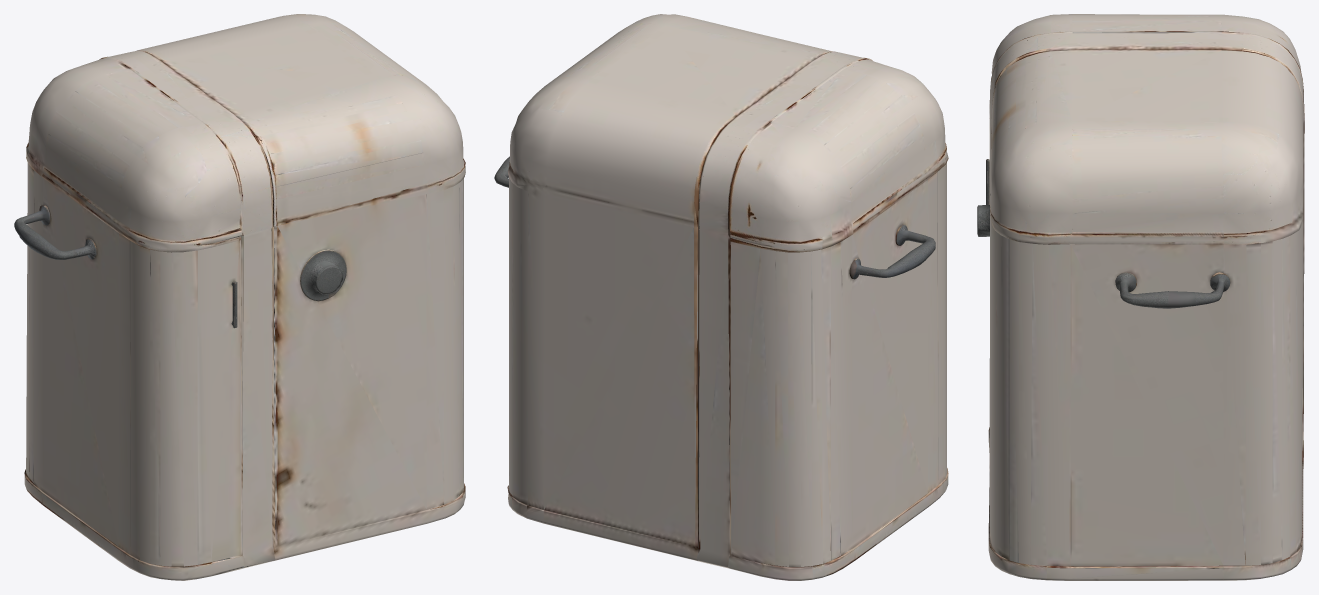
File: fridge.glb
3 renders of one model, left to right at view 1: azimuth 30°, elevation 25°; view 2: azimuth 150°, elevation 25°; view 3: azimuth 270°, elevation 25°, orthographic. The views are drawn at different scales.
Size of the model in its own units: 0.9502 by 0.9208 by 0.6367.
Materials: 1 (1 with a texture image).
